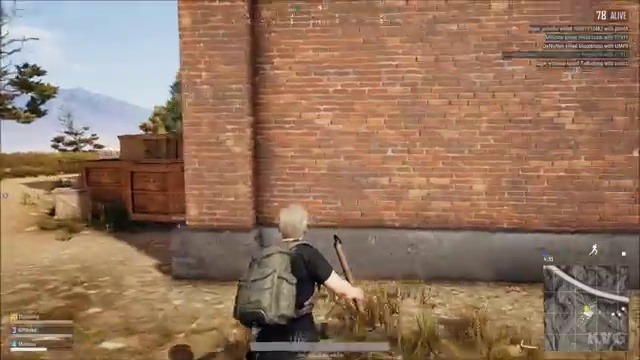Player: (225, 201, 375, 322)
